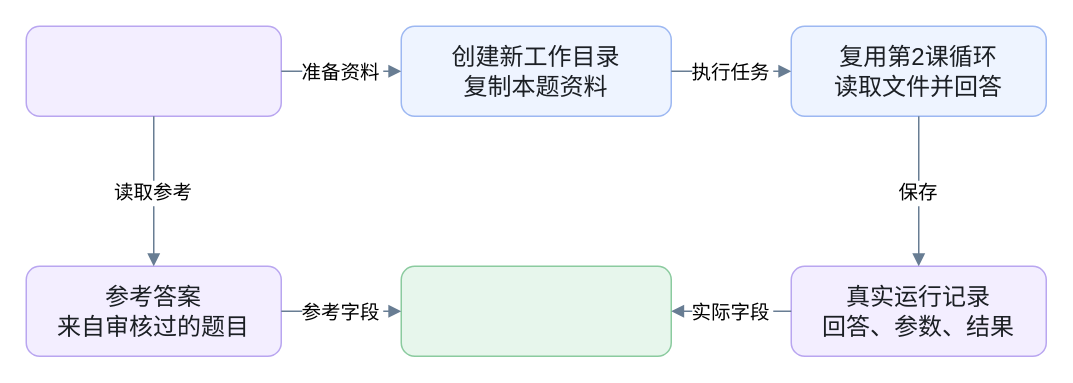
This 1073x383 diagram has some shape labels left out. Here are the shapes that lost their labels. From the top down, the centre of each, then its label:
At (153,70): "已审核 Golden 任务、参考与资料".
At (535,310): "DeepEval 样本 预期与实际分开".
